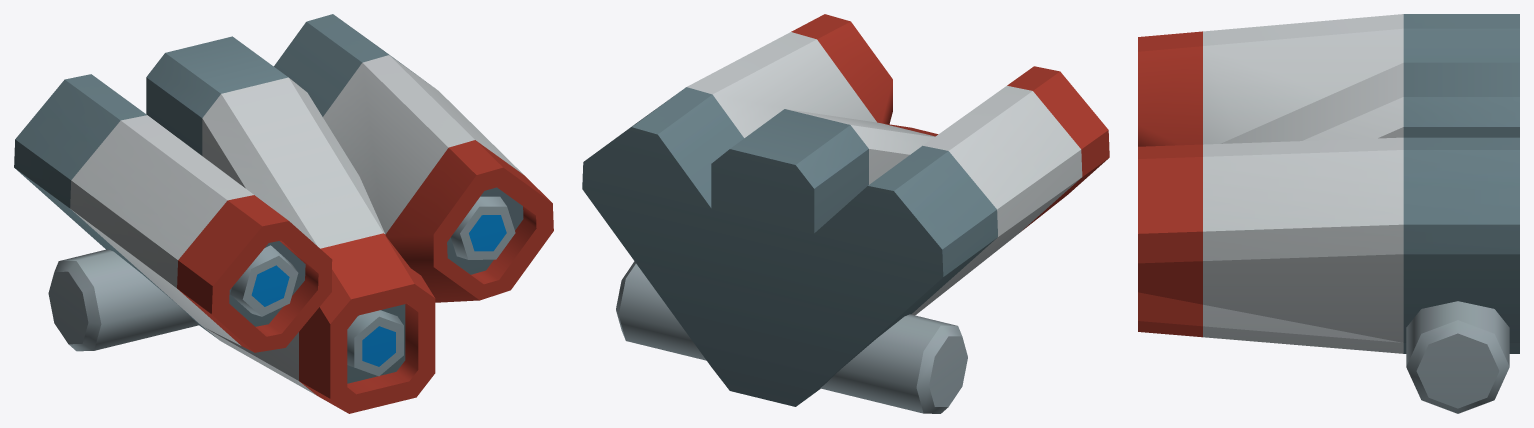
The model's file is Cam_001.fbx.
3 views of the same model, side by side, from view 1: azimuth 30°, elevation 25°; view 2: azimuth 150°, elevation 25°; view 3: azimuth 270°, elevation 25° (orthographic). The views are drawn at different scales.
Visible parts, largest first — view 1: Cam_001; view 2: Cam_001; view 3: Cam_001.
Part boxes in pixels (x1,y1,x2,y2): Cam_001: (14, 14, 553, 413); Cam_001: (582, 14, 1109, 413); Cam_001: (1138, 14, 1519, 413).
Size of the model in its own units: 42.8 by 36.9 by 27.4.
